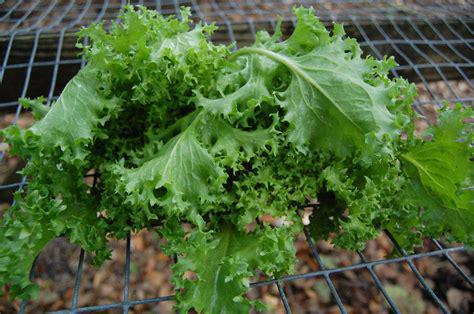HEALTHY: (232, 38, 407, 168), (4, 134, 110, 296), (165, 231, 297, 314), (114, 126, 227, 220), (90, 25, 226, 102)
